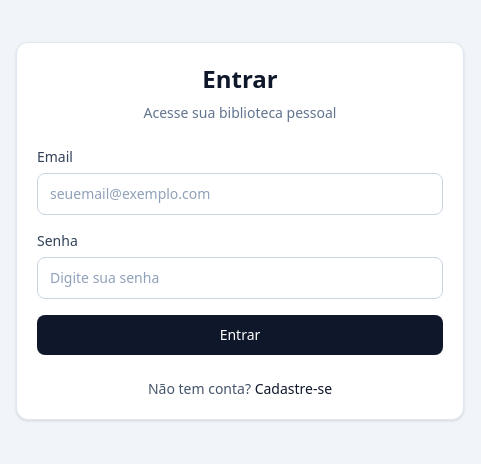
Test: LoginPage › validates required credentials before submitting
The width and height of the screenshot is (481, 464).
Click the button "Entrar" at (240, 335), box left=37, top=315, right=443, bottom=355
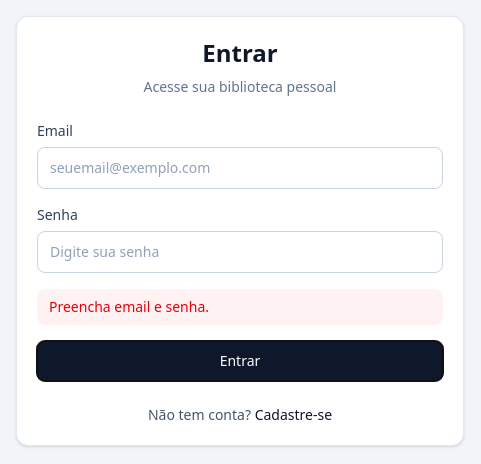
Check: the text "Preencha email e senha." is shown, box left=37, top=289, right=443, bottom=325
